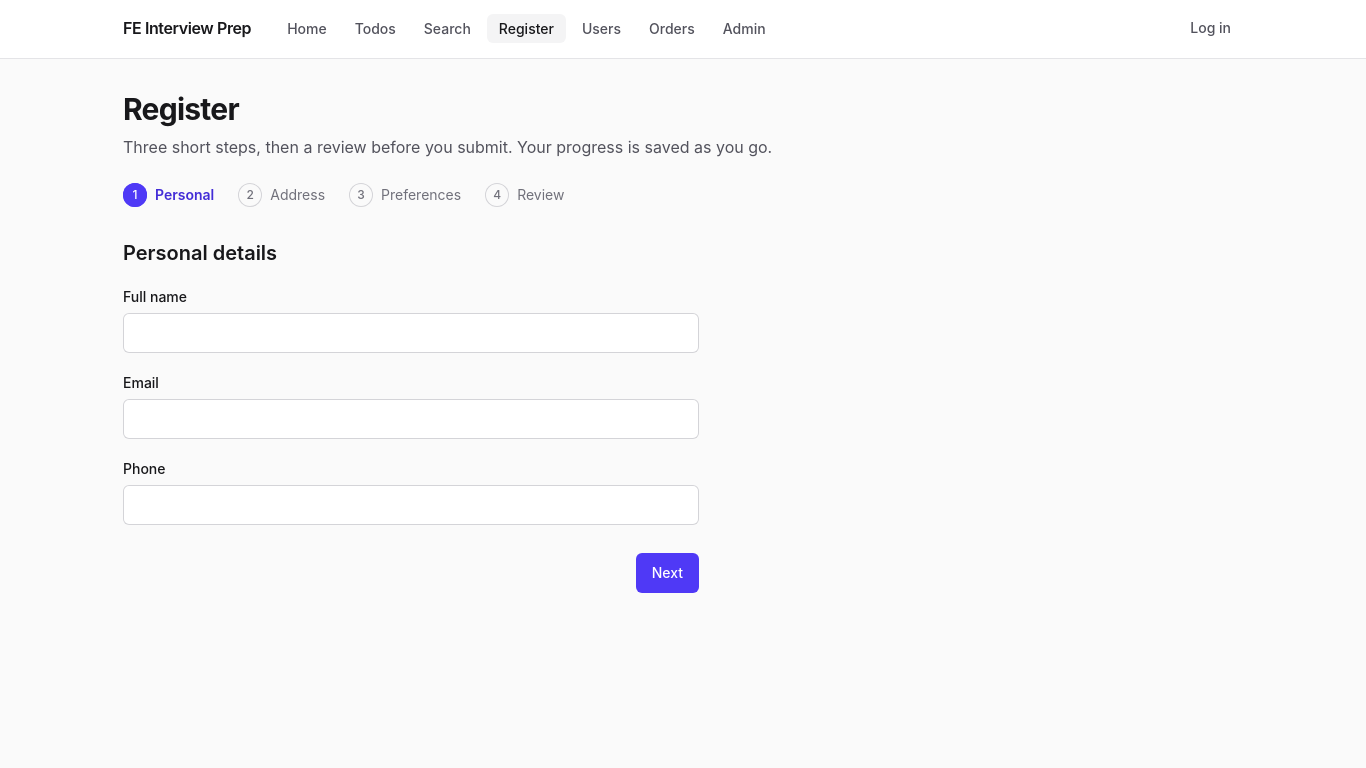
Test case: RegistrationPage › blocks Next on an invalid step and links each error to its field
This screenshot has width=1366, height=768.
Expected: the heading "Register" is shown, [123,91,239,127]
Type "not-an-email" into the field labelled "Email" at (411, 419), box [123,399,699,439]
Click the button "Next" at (667, 573), box [636,553,699,593]
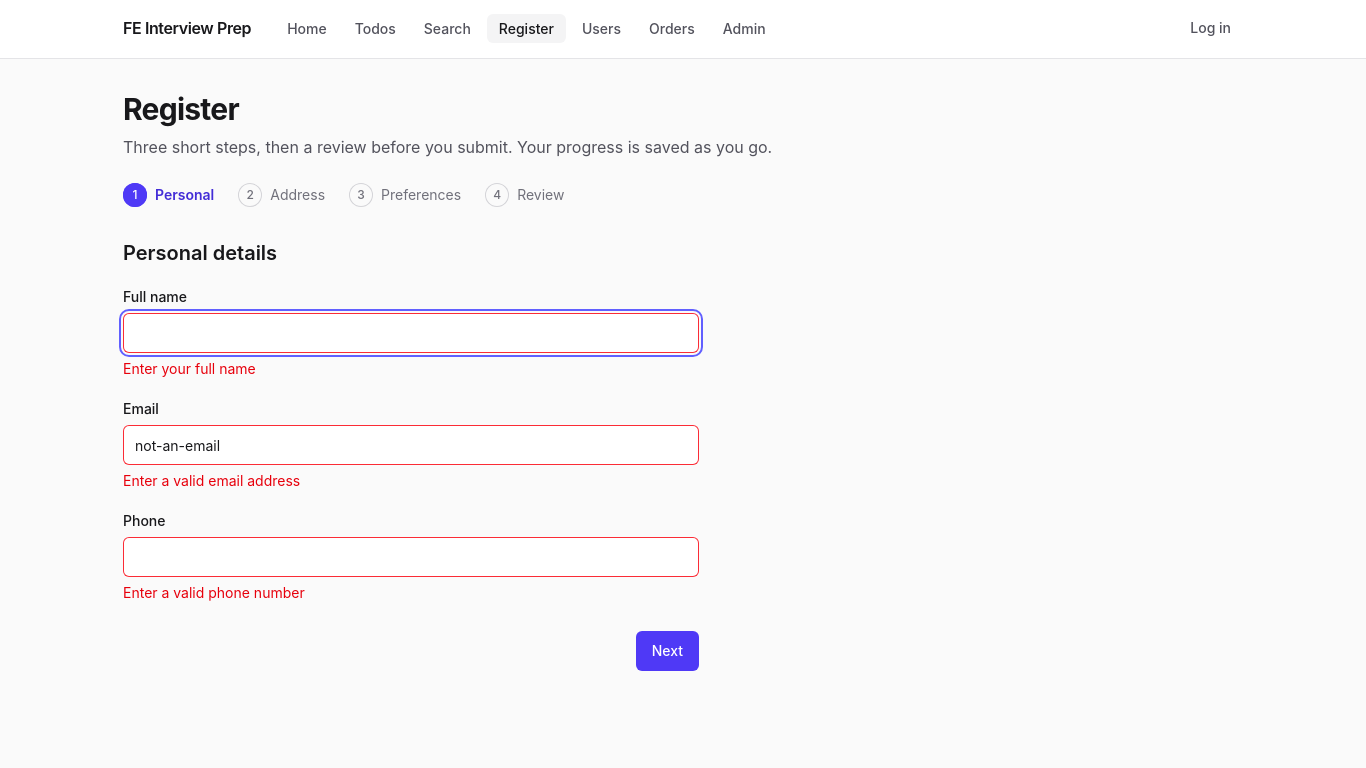
Expected: the list item "1 Personal" is shown, [123,183,214,207]
Clear the field labelled "Email" at (411, 445), box [123,425,699,465]
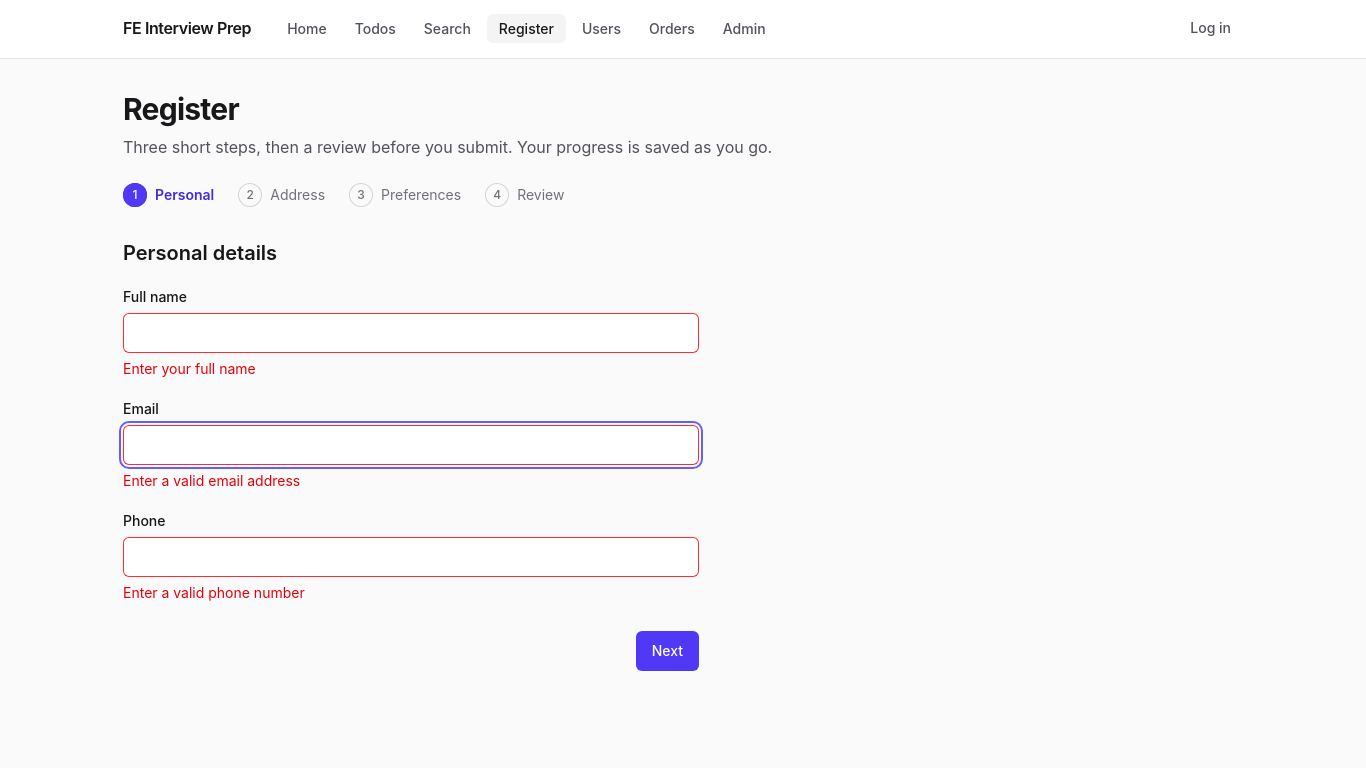
Type "Ada Lovelace" into the field labelled "Full name" at (411, 333), box [123,313,699,353]
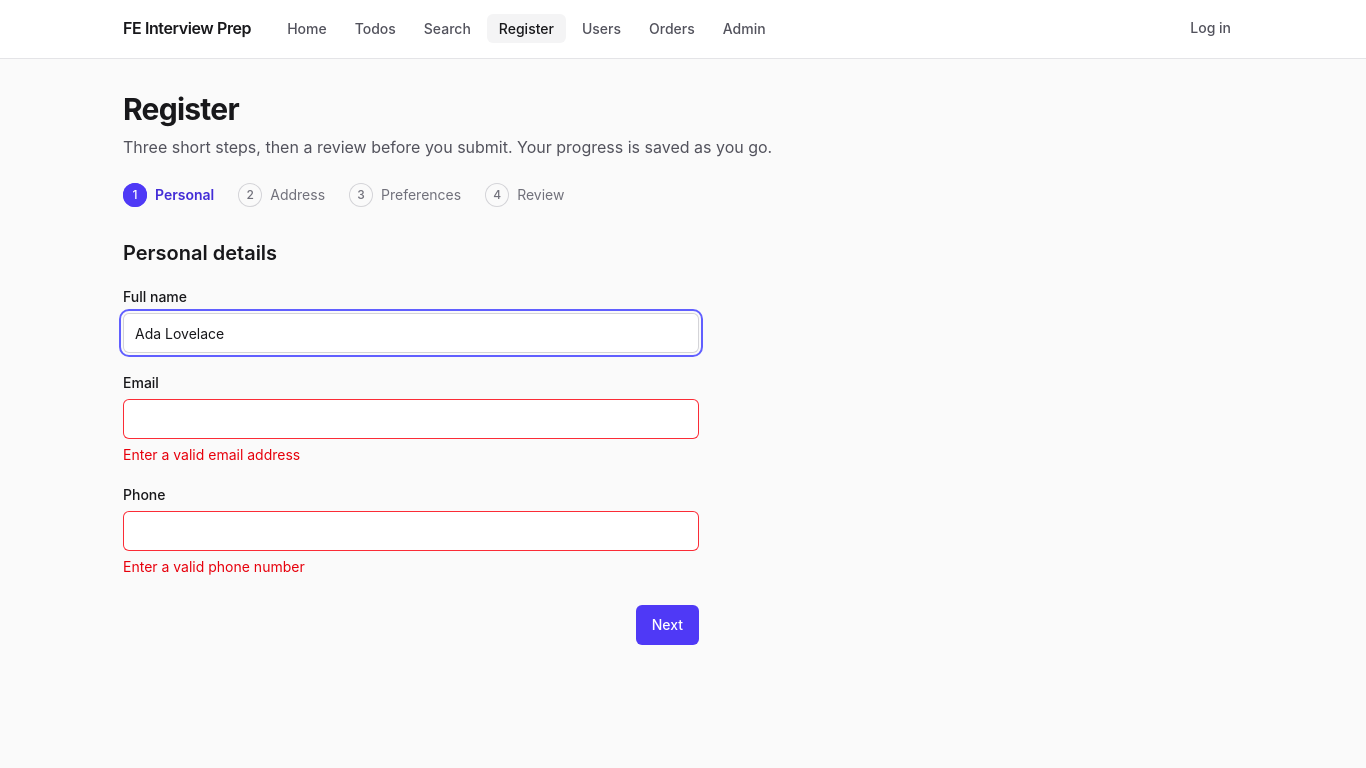
Type "ada@example.com" into the field labelled "Email" at (411, 419), box [123,399,699,439]
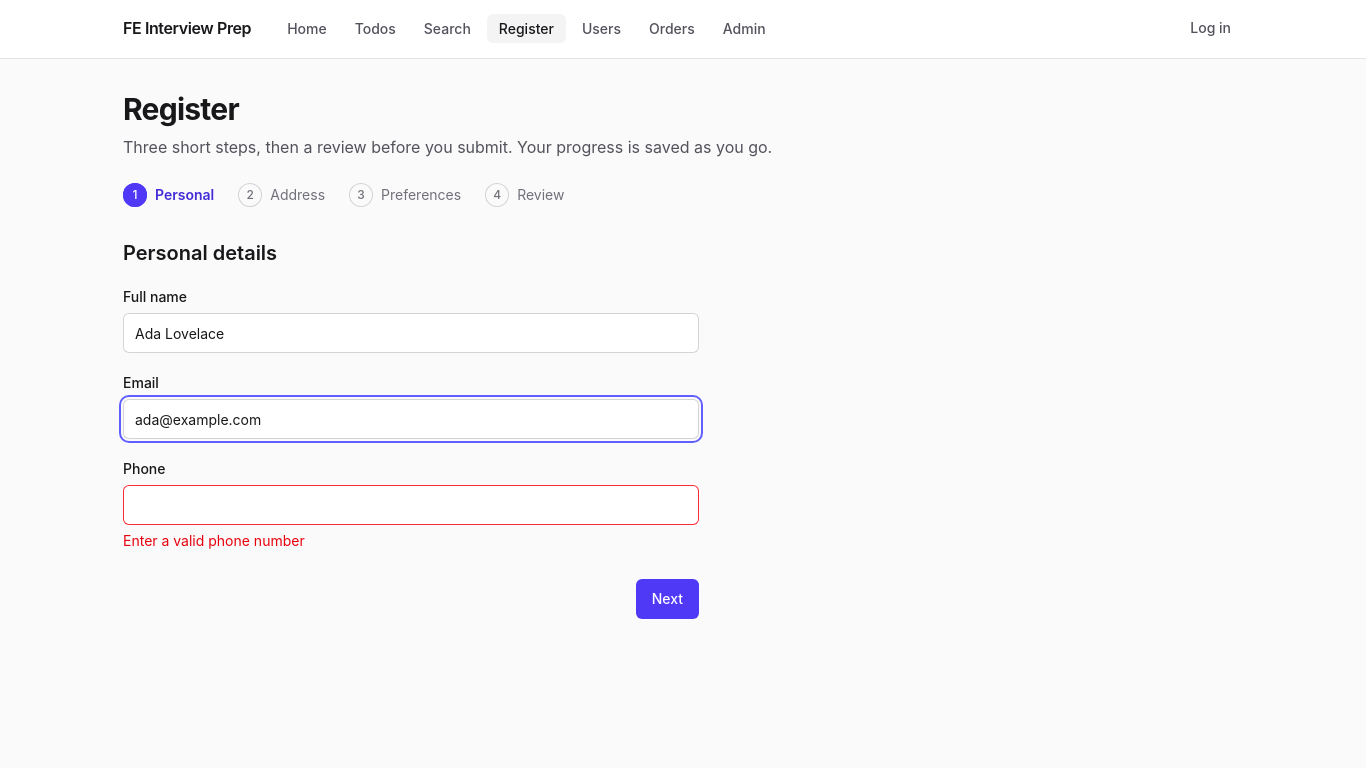
Type "+44 20 7946 0958" into the field labelled "Phone" at (411, 505), box [123,485,699,525]
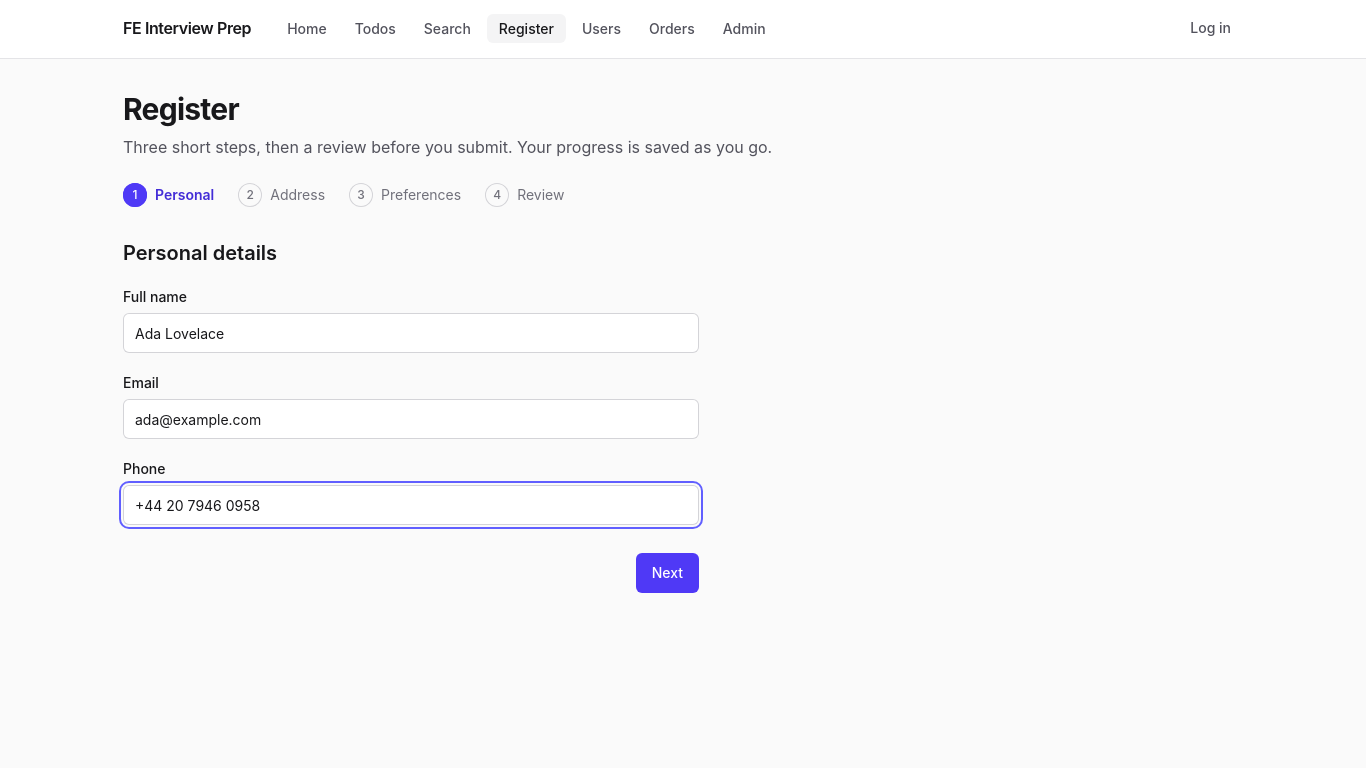
Click the button "Next" at (667, 573), box [636,553,699,593]
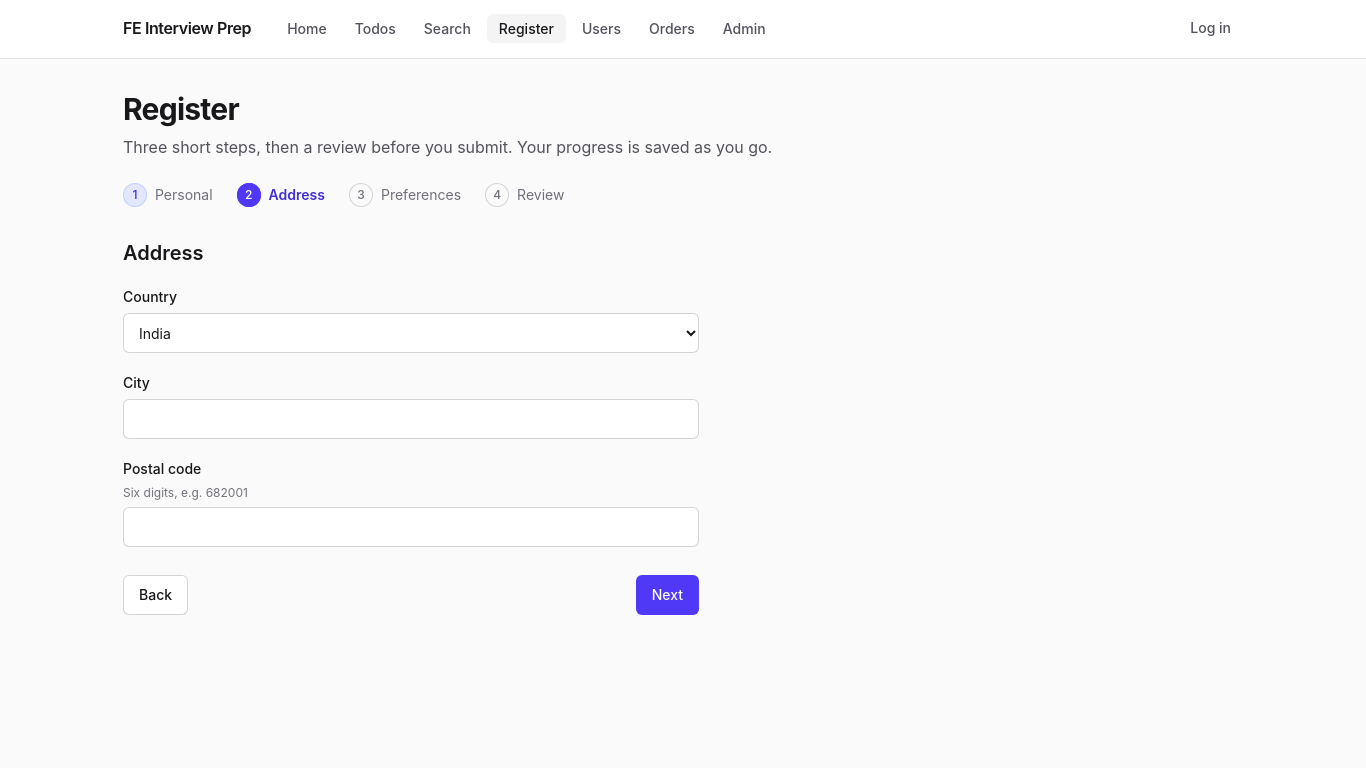
Expected: the list item "2 Address" is shown, [237,183,325,207]
Now the heading "Address" is shown, box [123,241,204,265]
